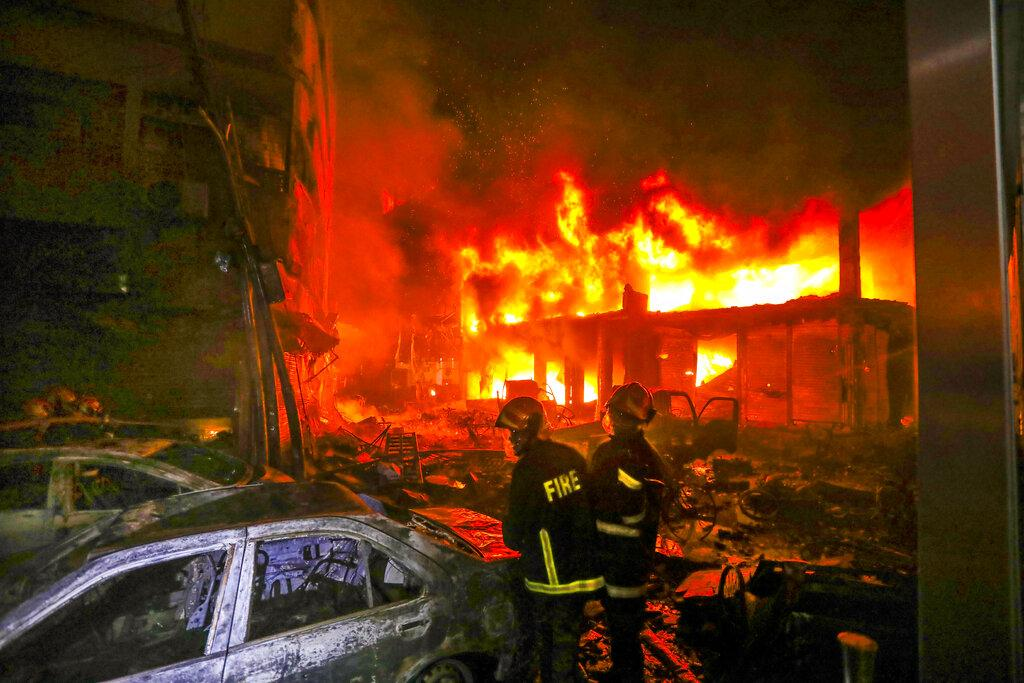Fire: (448, 151, 925, 432)
